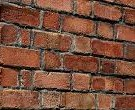brick: (1, 49, 41, 66), (35, 71, 70, 90), (65, 55, 99, 73), (1, 91, 41, 106), (33, 34, 71, 49), (63, 16, 95, 33), (90, 77, 124, 93), (1, 29, 31, 45), (64, 96, 96, 110), (93, 42, 122, 57), (41, 93, 64, 108), (44, 13, 62, 31), (97, 21, 114, 39), (116, 60, 135, 76), (43, 53, 63, 68), (74, 36, 91, 53), (72, 73, 88, 91), (20, 71, 36, 89), (117, 25, 135, 40), (1, 72, 18, 87), (74, 1, 92, 15), (115, 98, 135, 109), (97, 96, 112, 110), (100, 59, 114, 73), (124, 8, 135, 24), (123, 80, 135, 94), (124, 43, 135, 58)
